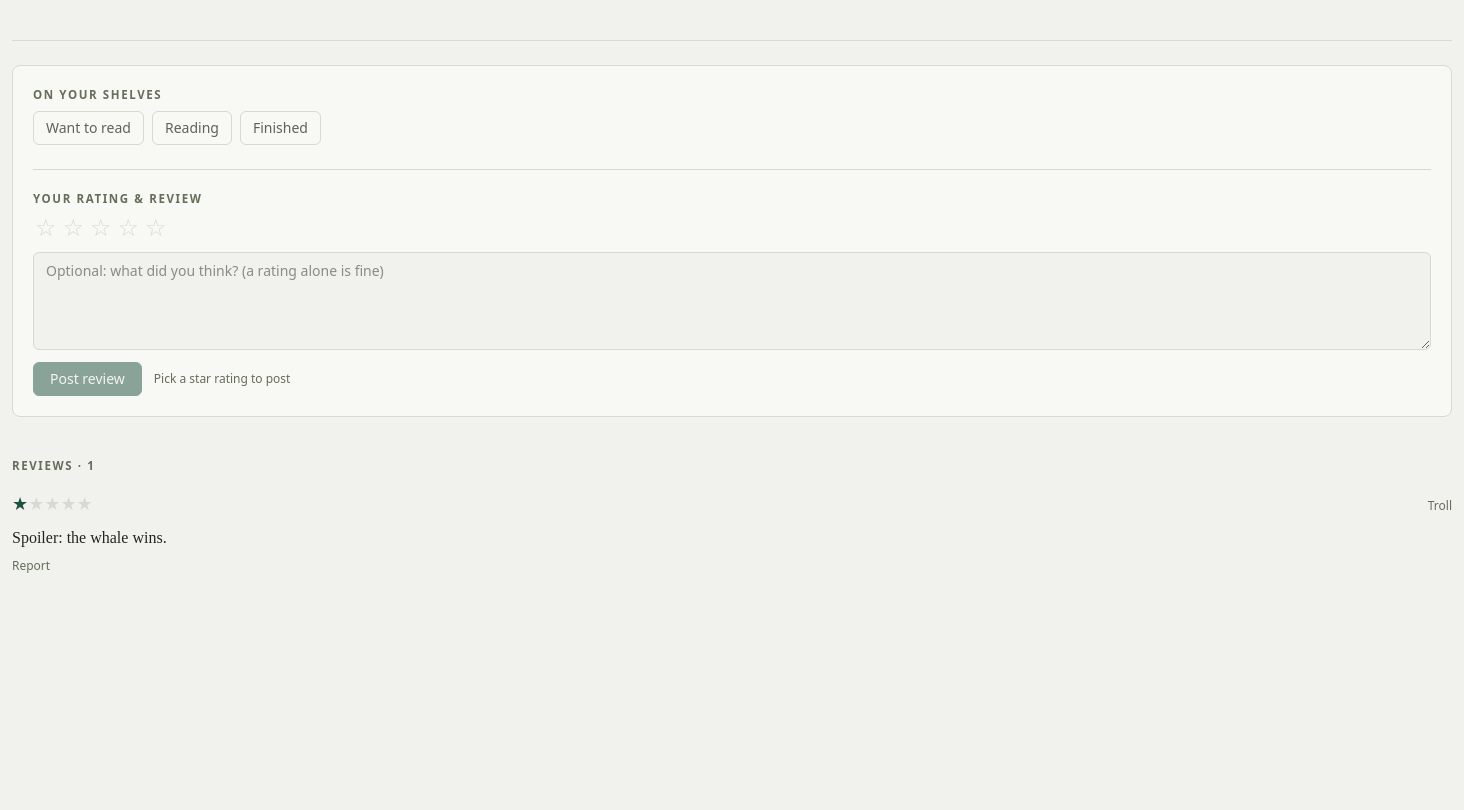
BookMemberPanel › lets a member report someone else’s review
Click the button "Report" at [31, 566], box [12,558,50,574]
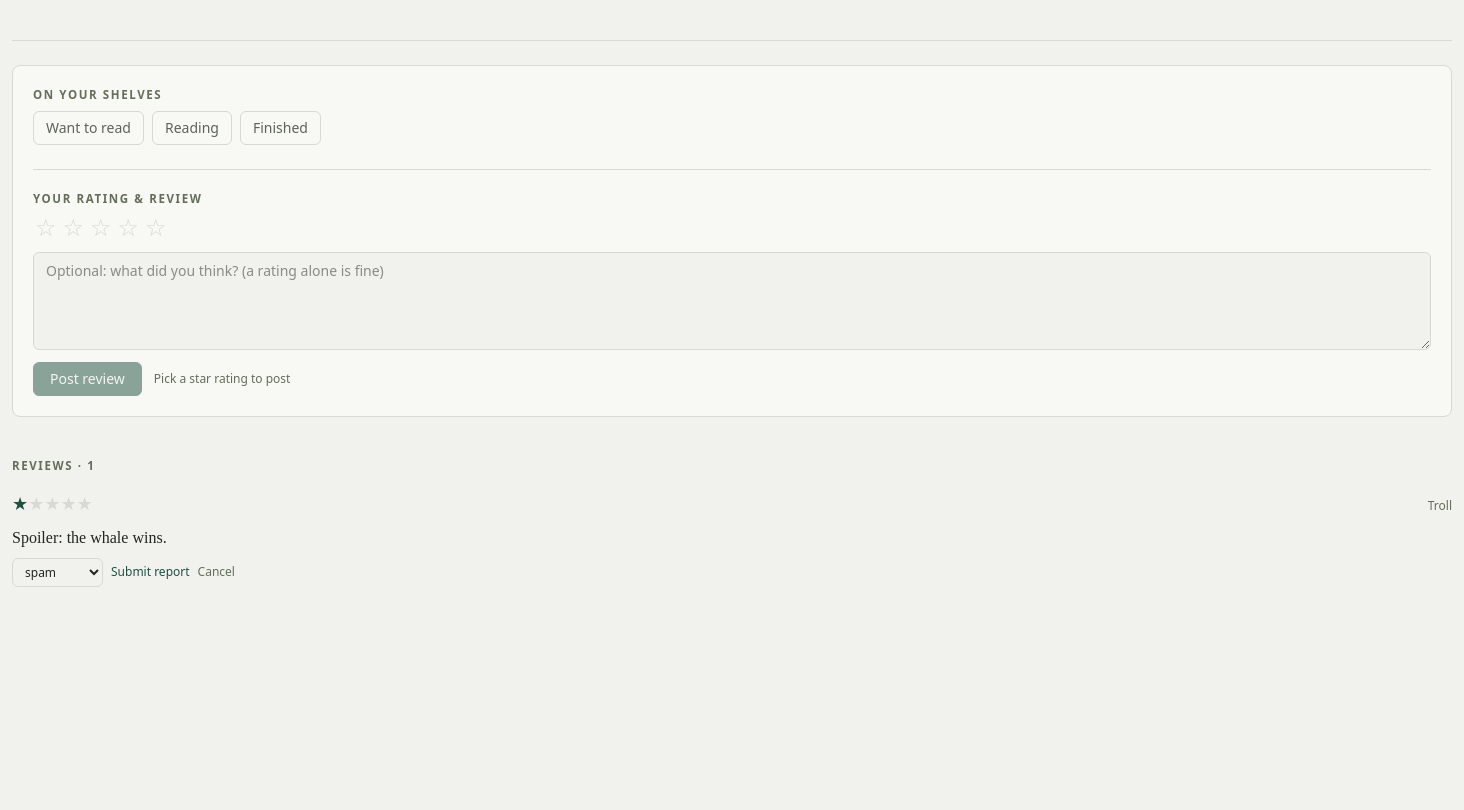
Select "spoilers" in the dropdown named "report reason" at [58, 572], box [12,558,103,587]
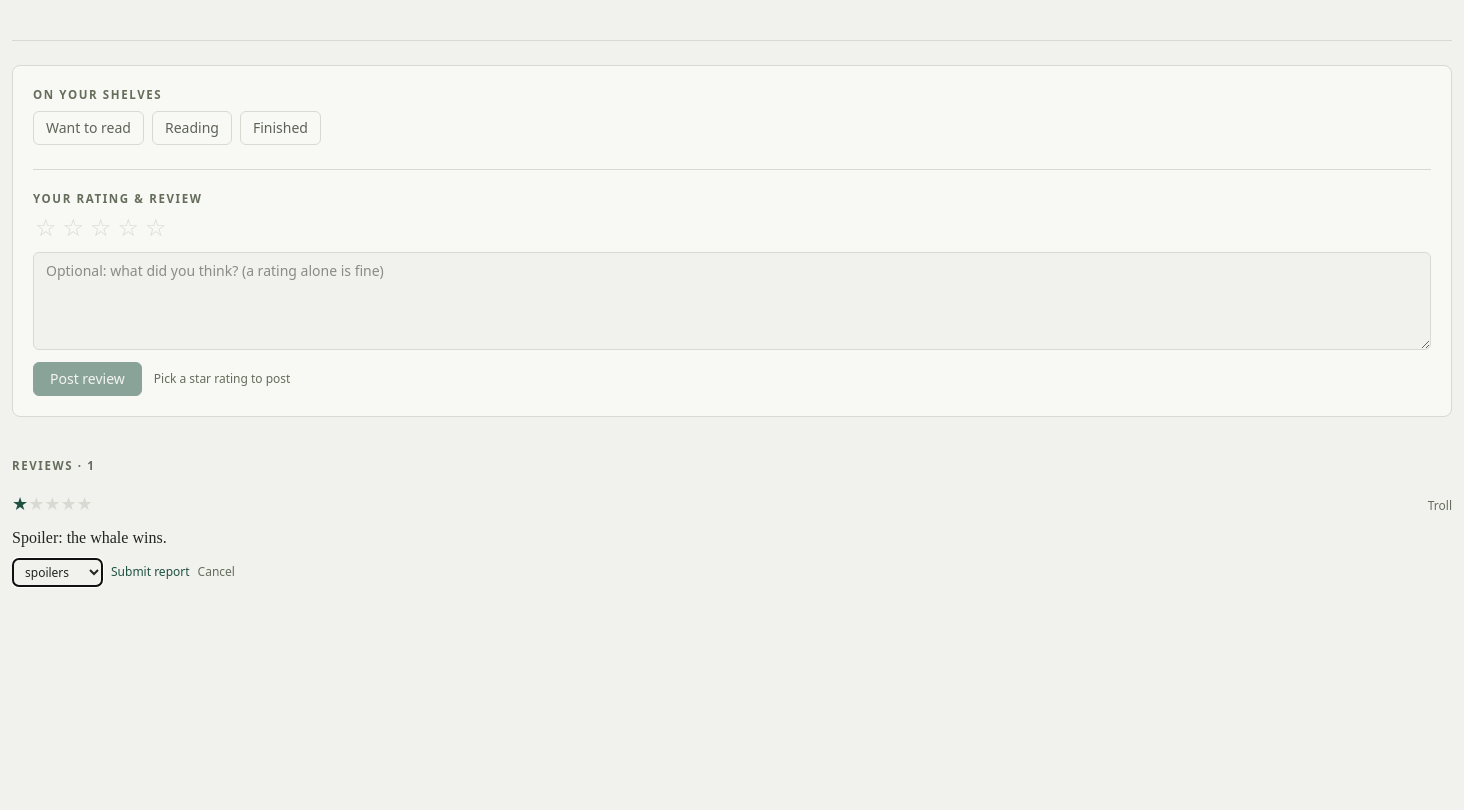
Click the button "Submit report" at [150, 572], box [111,564,190,580]
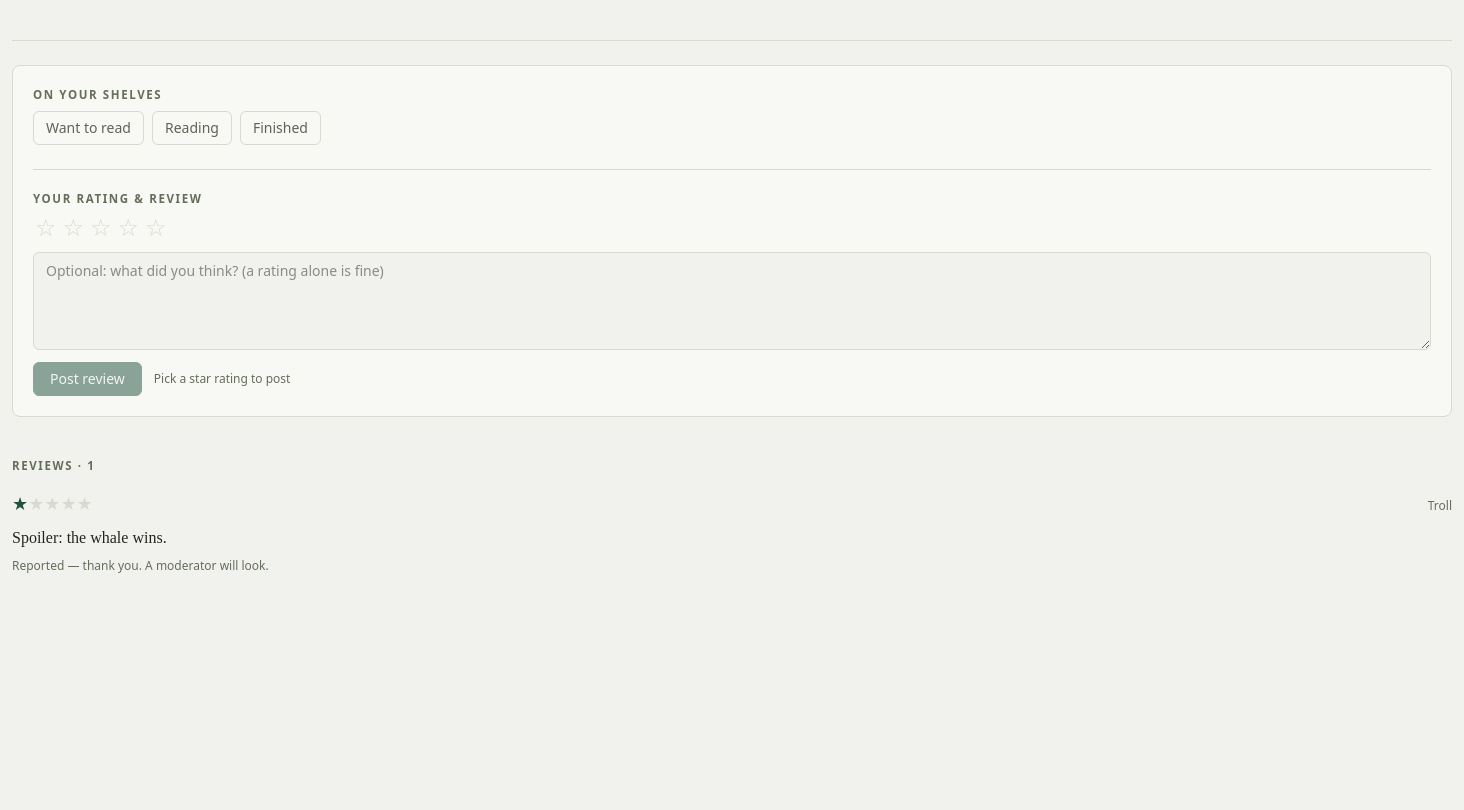
Result: the text "Reported — thank you. A moderator will look." is shown at [12,557,269,574]
